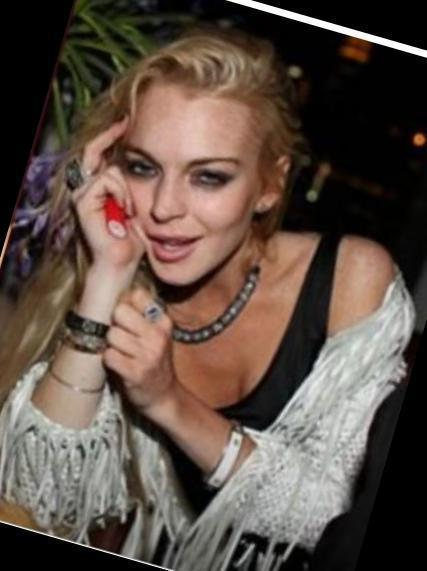Drunk: (123, 99, 252, 277)
